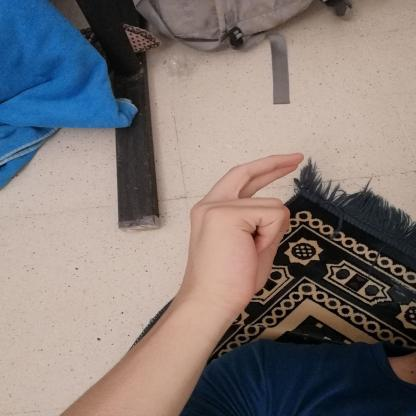ZAY: (173, 145, 314, 319)
